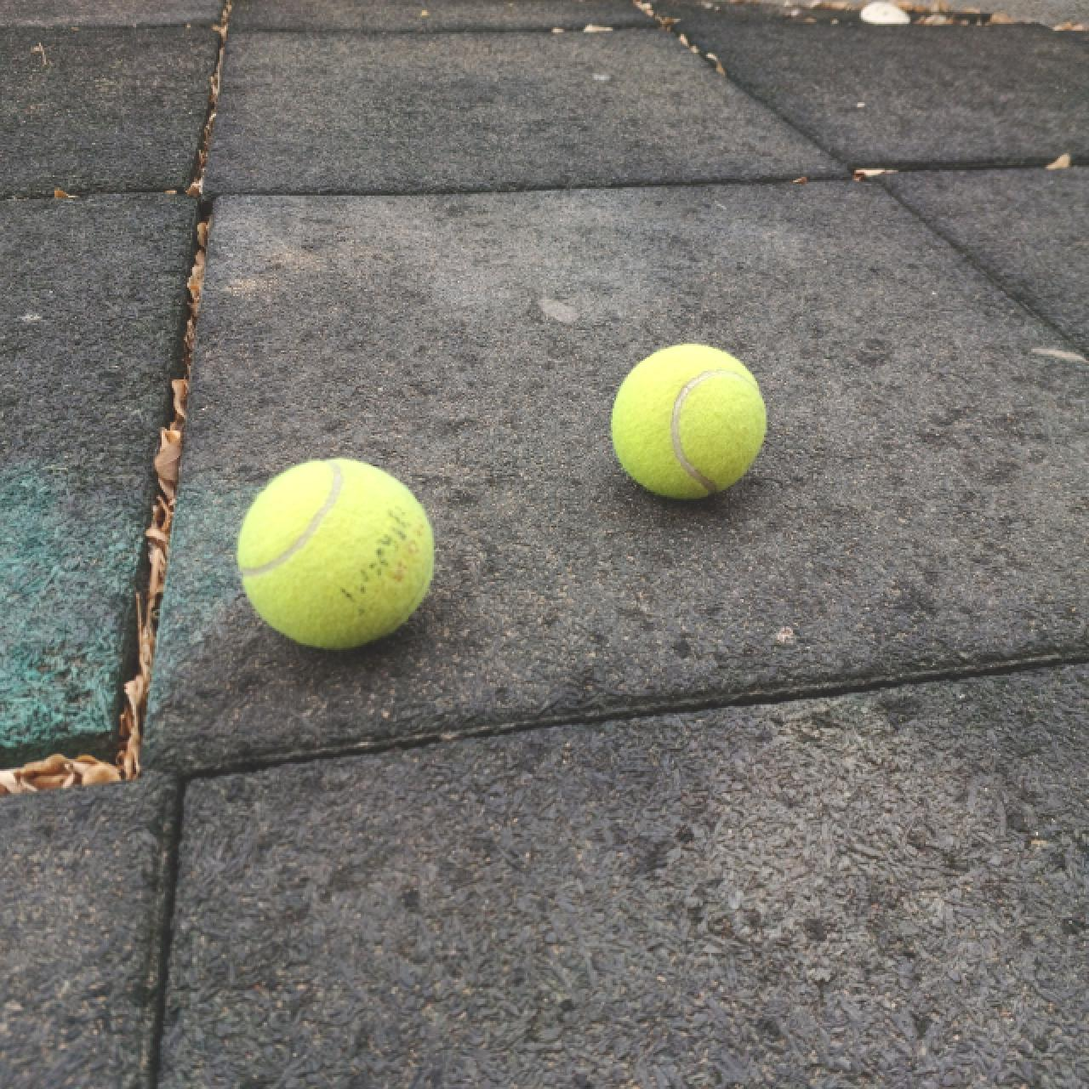tennis-ball: (238, 455, 436, 653), (609, 342, 769, 498)
